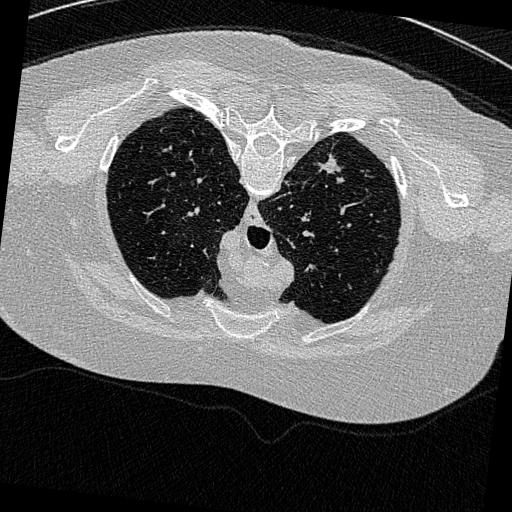nodule: (318, 154, 344, 180)
